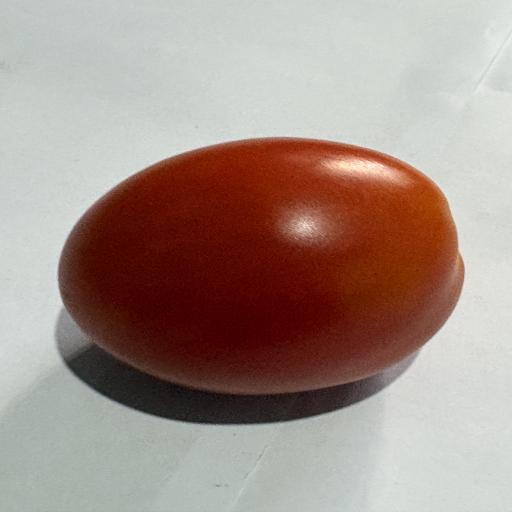ripe: (59, 138, 464, 394)
